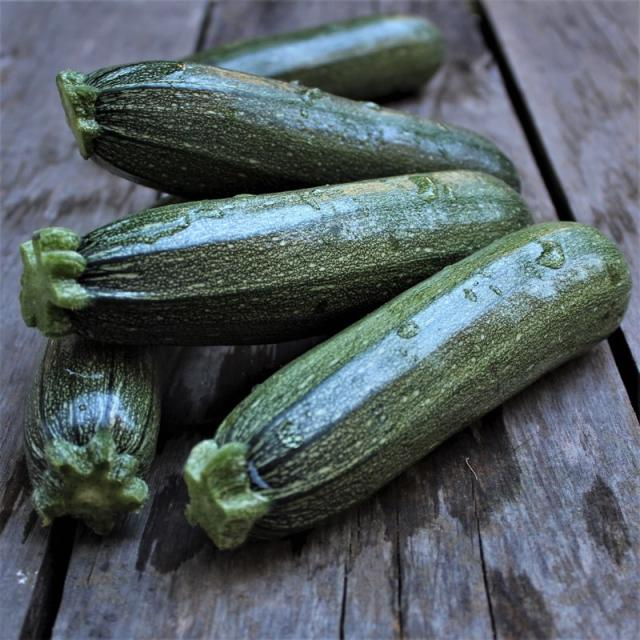Zucchini: (17, 173, 500, 328)
